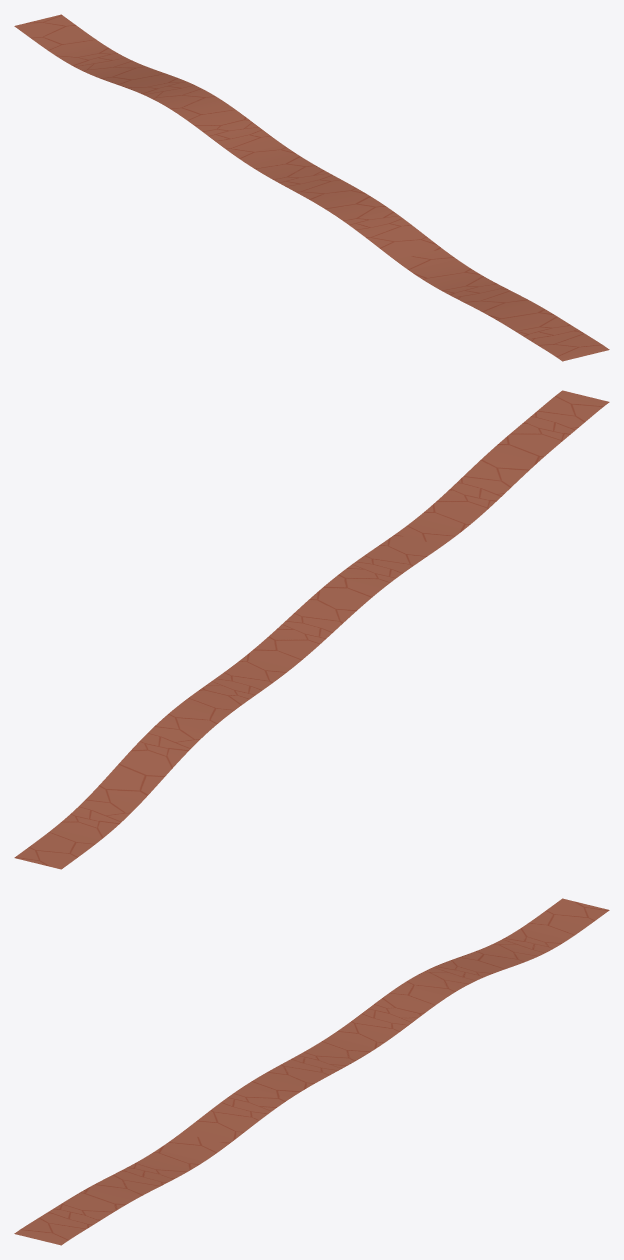
3 renders of one model, top to bottom at view 1: azimuth 30°, elevation 25°; view 2: azimuth 150°, elevation 25°; view 3: azimuth 330°, elevation 25°, orthographic.
Parts seen in each view (by area): view 1: Default; view 2: Default; view 3: Default.
Part boxes in pixels (x1,y1,x2,y2): Default: (14,14,609,361); Default: (14,390,609,869); Default: (14,898,609,1245).
Bounding box in the file's own units: 120 × 159 × 2400.
1 material, 1 textured.
